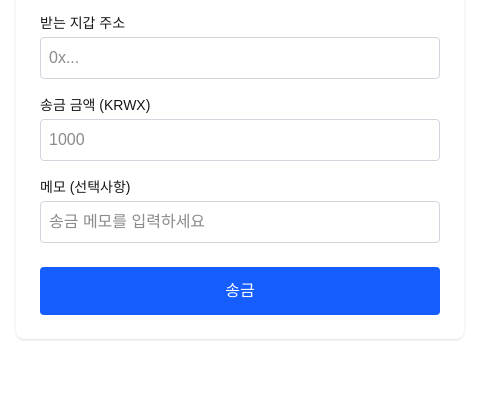
Test case: SendForm › 모든 필수 입력값이 없을 때 에러 메시지를 보여준다
Click the button "송금" at (240,291), box [40, 267, 440, 315]
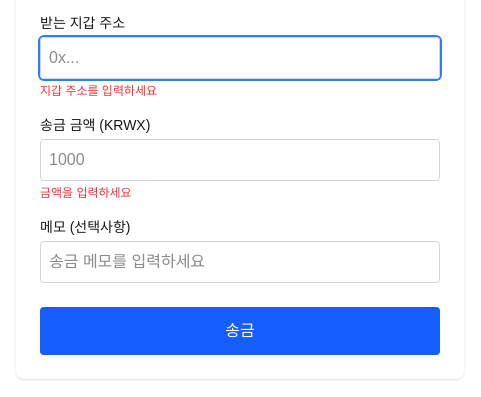
expect the text "지갑 주소를 입력하세요" is shown: met, box [40, 84, 157, 98]
expect the text "금액을 입력하세요" is shown: met, box [40, 186, 132, 200]
